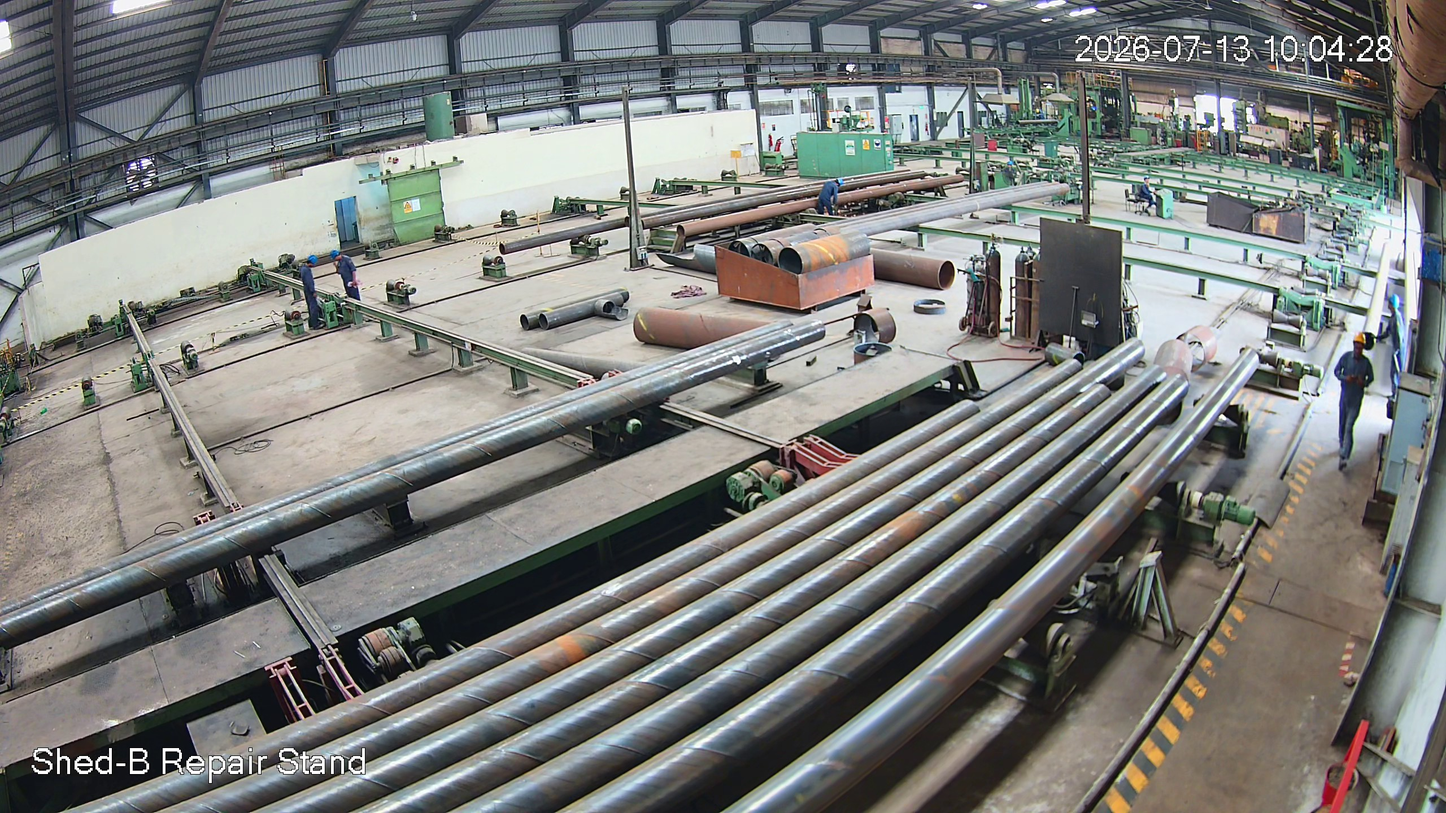Helmet: (1351, 332, 1375, 363), (330, 248, 345, 264), (306, 253, 320, 270)
Person: (1330, 334, 1375, 471), (330, 251, 364, 314), (300, 254, 325, 333)
